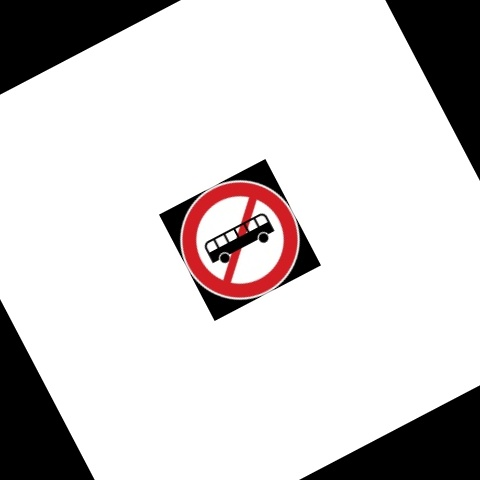South Korea_No buses: (81, 82, 399, 397)
